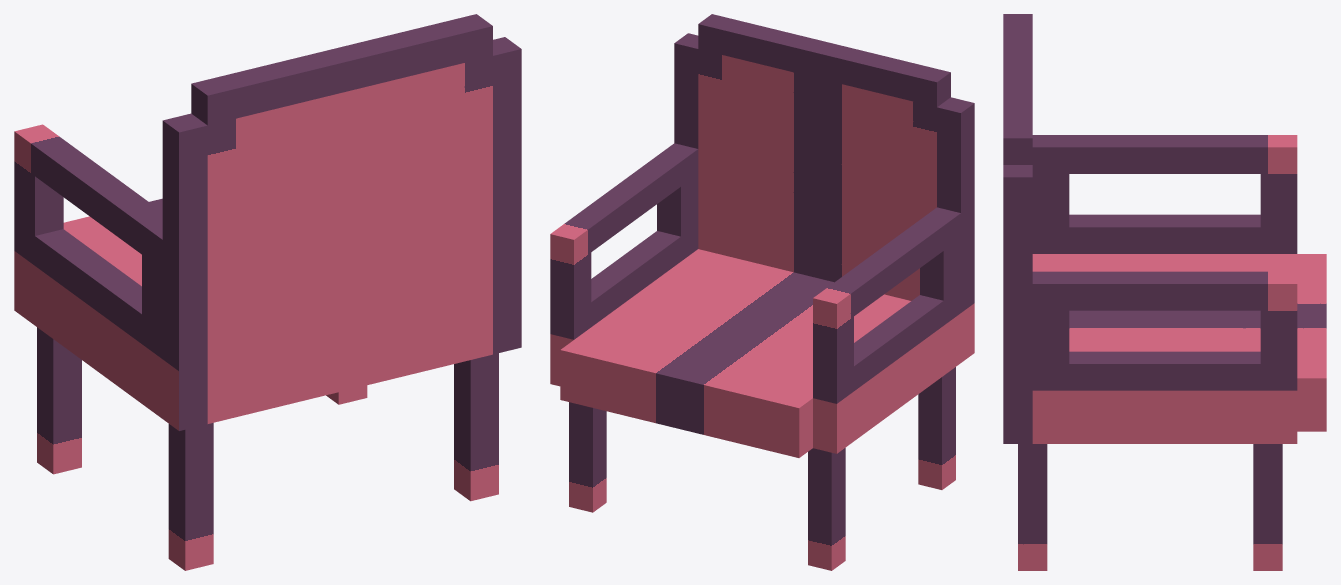
The model's file is super_chair.gltf.
The picture shows the model from 3 angles, left to right: view 1: azimuth 30°, elevation 25°; view 2: azimuth 150°, elevation 25°; view 3: azimuth 270°, elevation 25°; orthographic projection. The views are drawn at different scales.
Parts seen in each view (by area): view 1: cuboid; view 2: cuboid; view 3: cuboid.
Part boxes in pixels (x1,y1,x2,y2): cuboid: (14,14,521,570); cuboid: (550,14,974,570); cuboid: (1003,14,1326,570).
Size of the model in its own units: 0.75 by 1 by 0.6875.
1 material, 1 textured.
